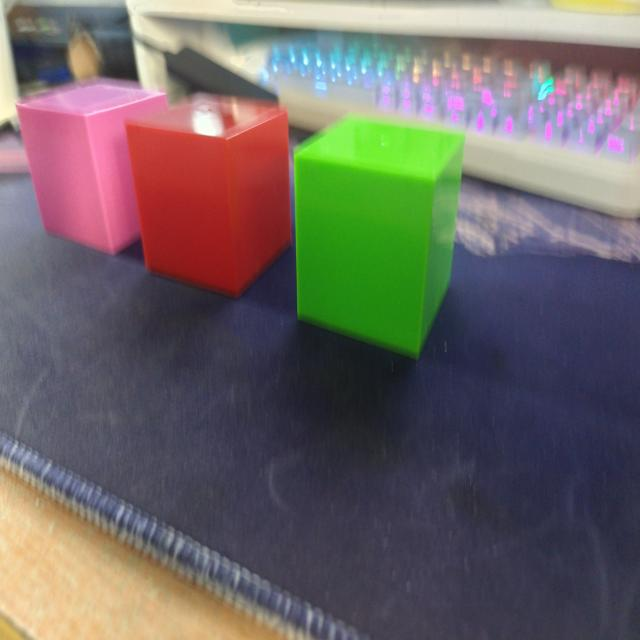green: (288, 106, 472, 367)
pink: (9, 76, 136, 257)
red: (125, 94, 292, 294)
